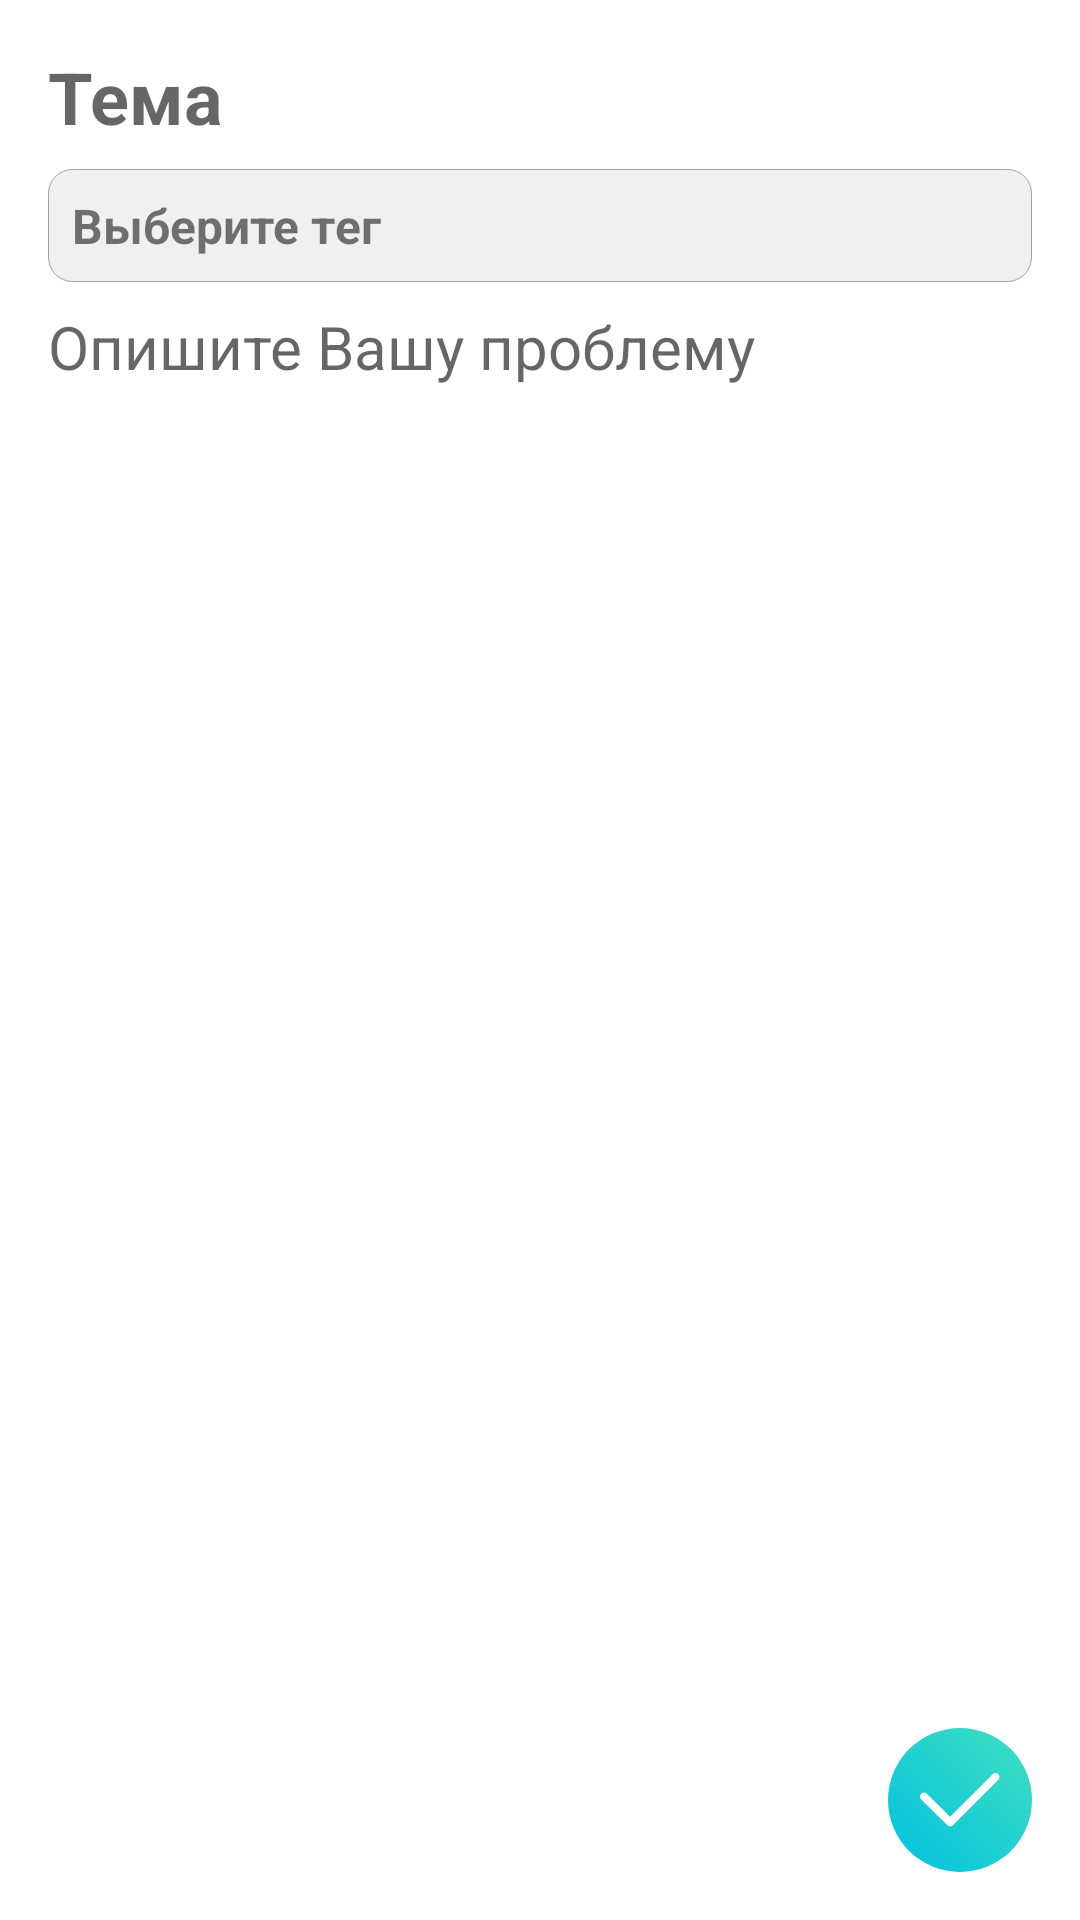

Named icons in this screenshot (1080×1920) and their centers, point (x, y):
tick: point (960, 1800)
